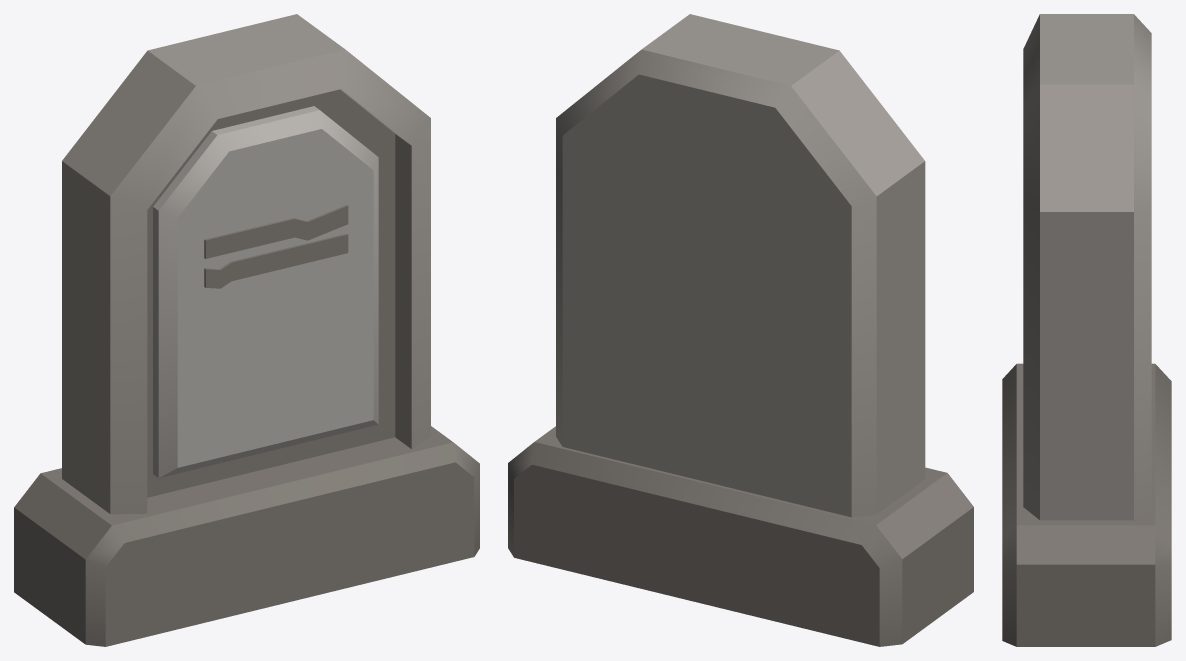
File: Tombstone 01.FBX
3 renders of one model, left to right at view 1: azimuth 30°, elevation 25°; view 2: azimuth 150°, elevation 25°; view 3: azimuth 270°, elevation 25°, orthographic. The views are drawn at different scales.
Parts seen in each view (by area): view 1: Tombstone 01; view 2: Tombstone 01; view 3: Tombstone 01.
Boxes of the visible parts, box(x1,y1,x2,y2) form: Tombstone 01: box(14, 14, 479, 646); Tombstone 01: box(508, 14, 973, 646); Tombstone 01: box(1002, 14, 1171, 646).
Size of the model in its own units: 87.06 by 110 by 33.36.
1 material, 1 textured.
